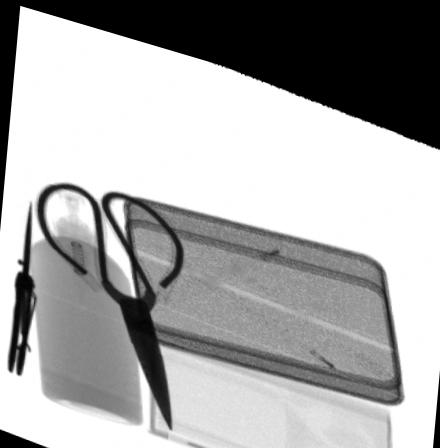Knife: (4, 198, 38, 376)
Scissors: (35, 176, 182, 420)
